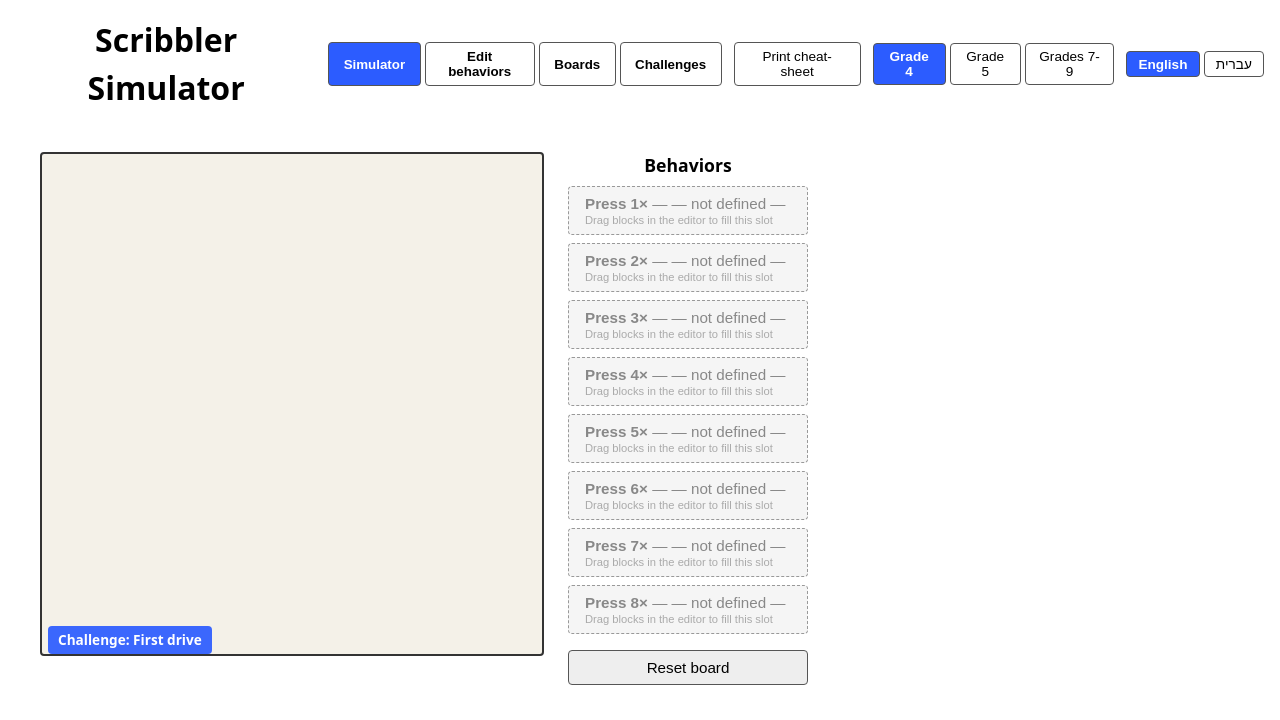
Test: App — language toggle › switches all UI strings to Hebrew and sets html dir=rtl when Hebrew is clicked
The width and height of the screenshot is (1280, 720).
expect the heading "Scribbler Simulator" is shown: met, box x1=88 y1=18 x2=245 y2=109
Click the button "עברית" at (1234, 64), box x1=1204 y1=51 x2=1264 y2=77
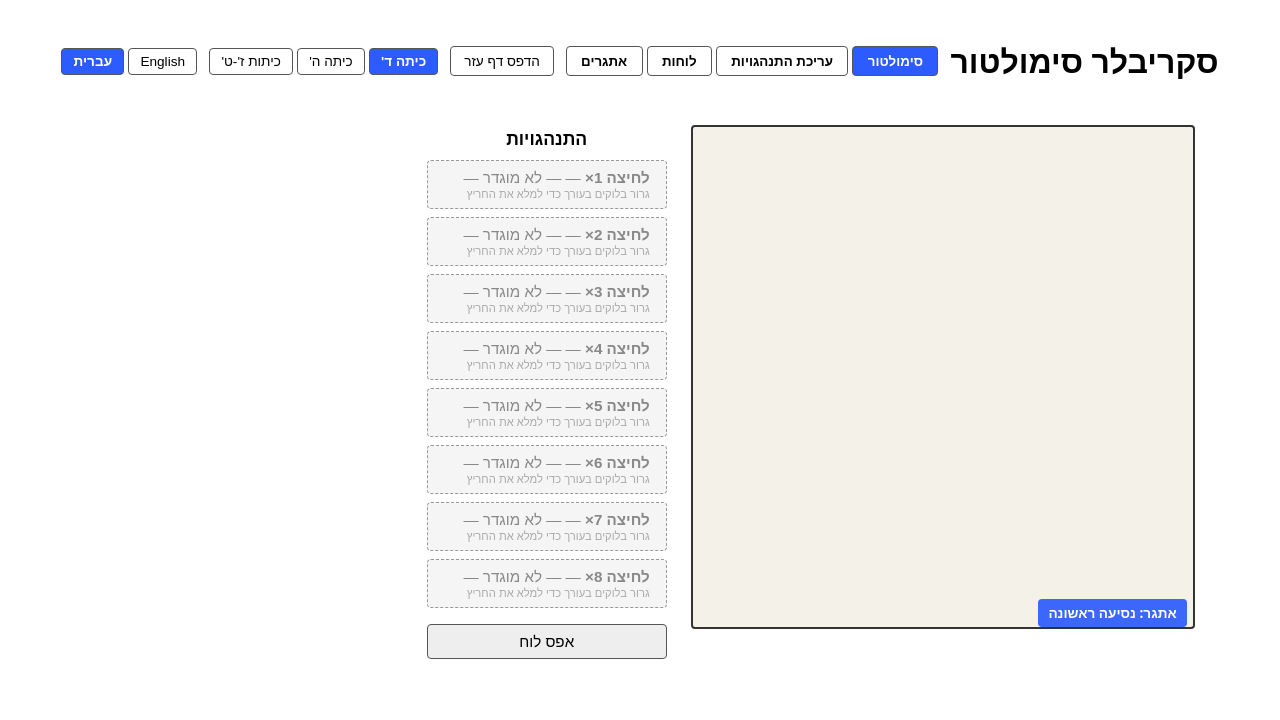
expect the heading "סקריבלר סימולטור" is shown: met, box x1=950 y1=37 x2=1219 y2=85
expect the button "אפס לוח" is shown: met, box x1=427 y1=624 x2=667 y2=659
